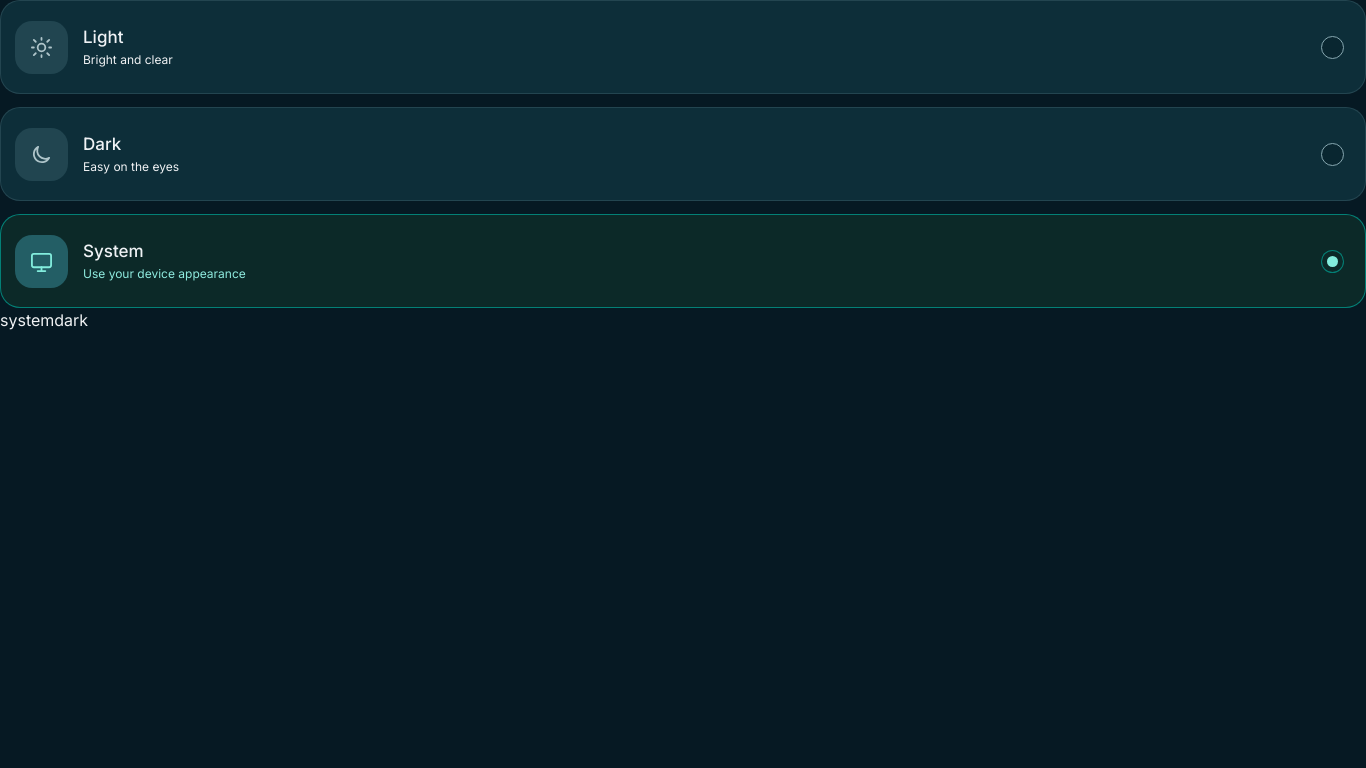
Test: theme selection › follows system color-scheme changes when System is selected
Expected: the text with test id "resolved-theme" reads "dark", [54,310,88,330]
Click the radio button labelled "Light" at (42, 47), box [0,0,1365,94]
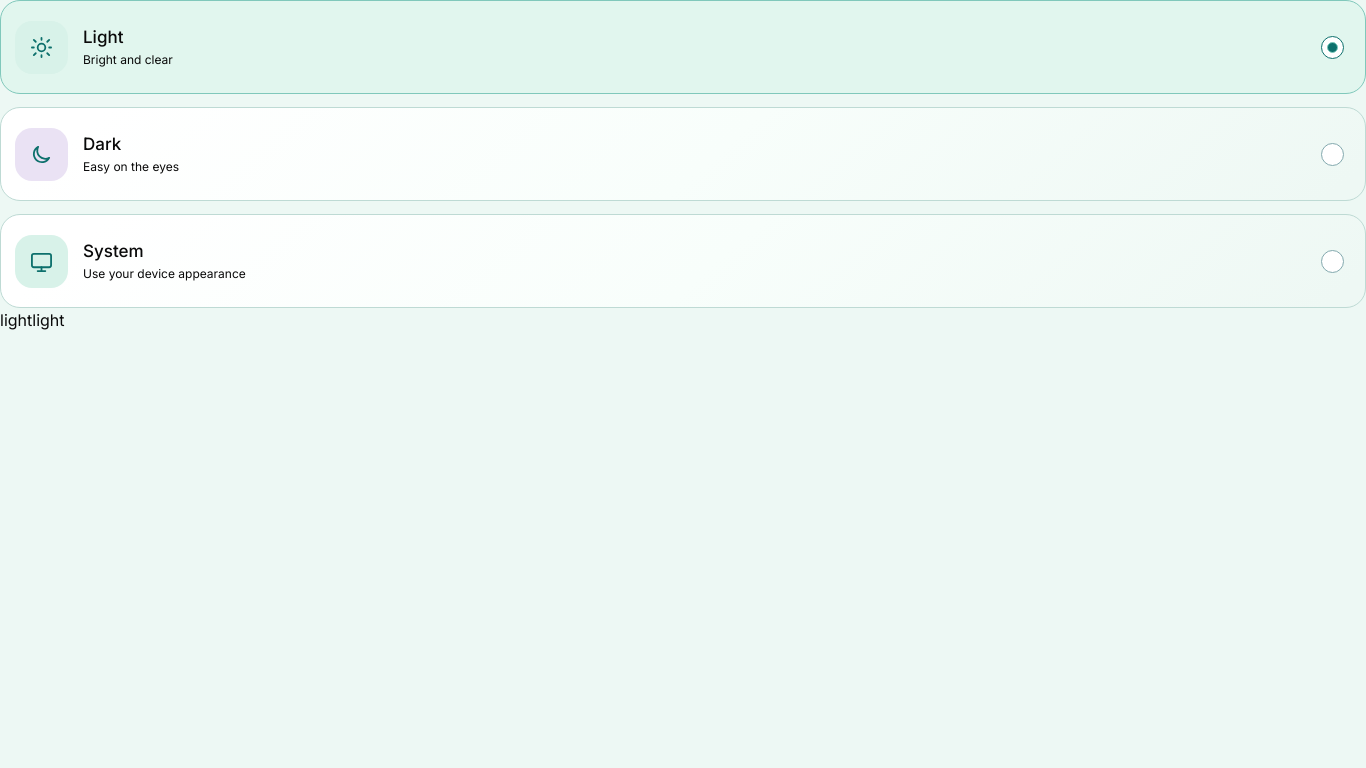
Now the radio button labelled "Light" is checked, box [0,0,1365,94]
